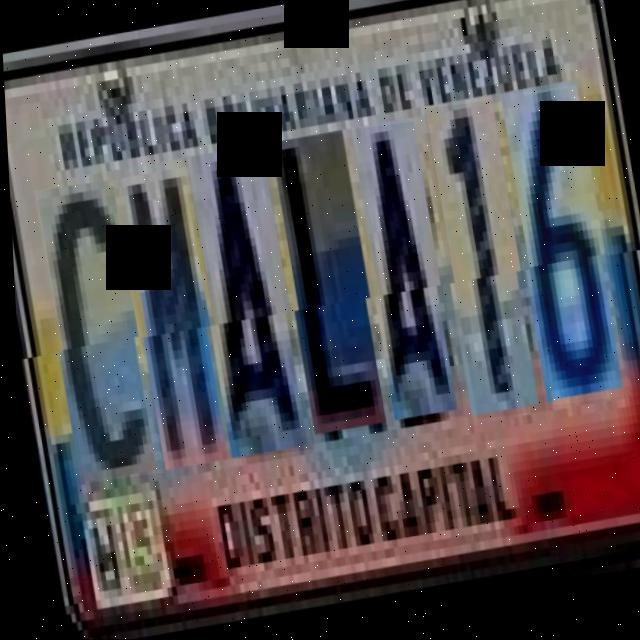1: (422, 100, 543, 420)
6: (498, 85, 627, 407)
A: (182, 146, 311, 459), (348, 121, 460, 424)
C: (32, 180, 159, 484)
L: (268, 133, 390, 436)
M: (116, 160, 230, 470)
